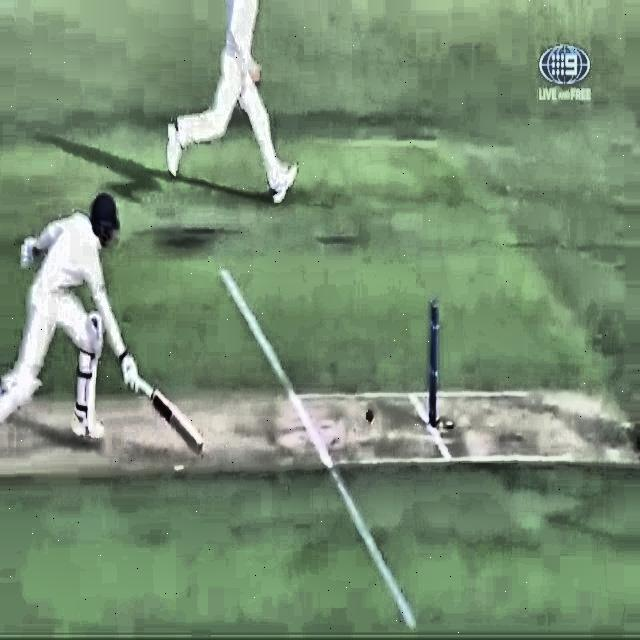Ball: (361, 402, 377, 425)
Bat: (121, 366, 210, 455)
Pitch_Line: (218, 265, 418, 631)
Undis_Wicket: (420, 295, 445, 433)
